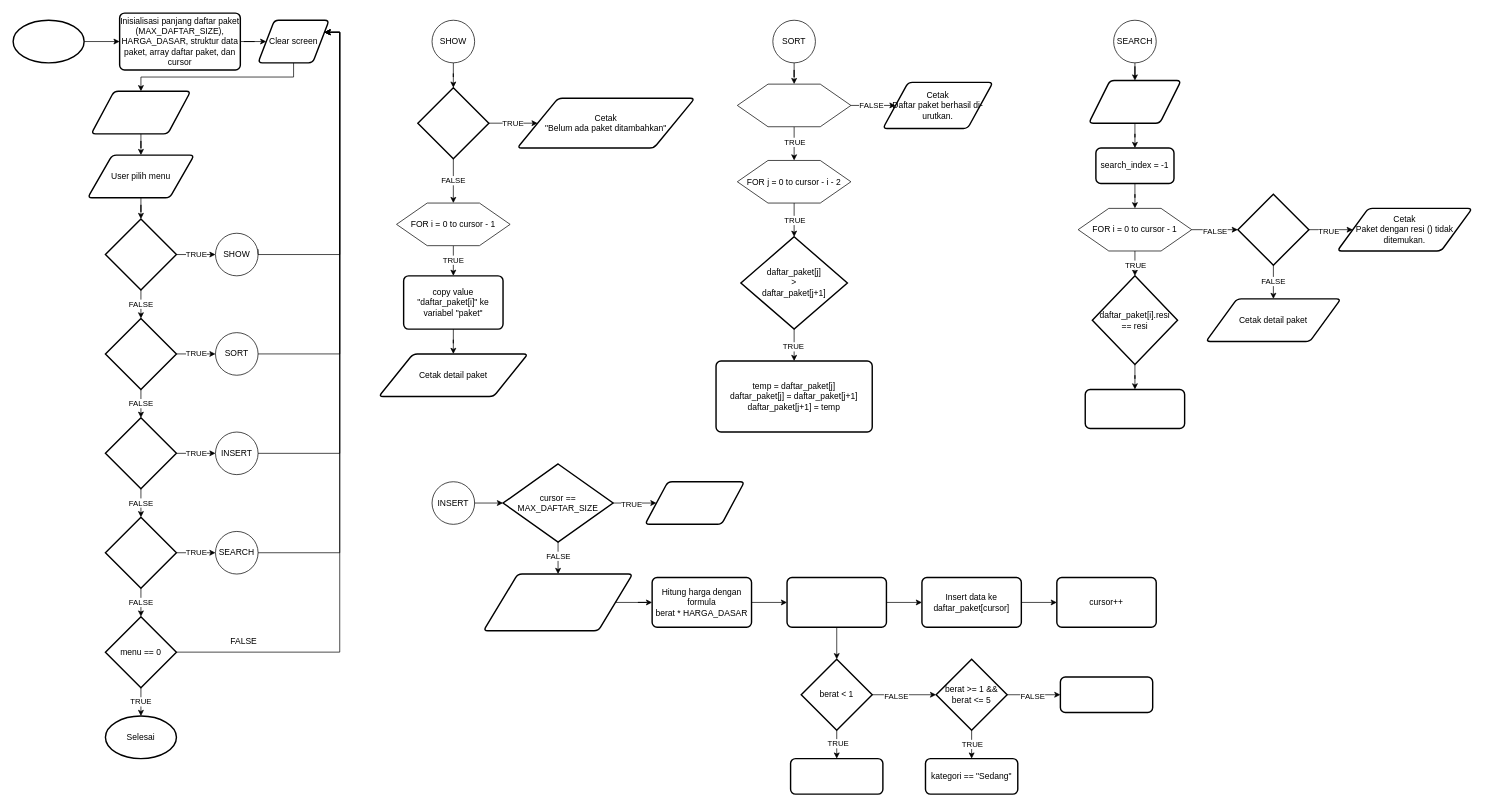
Some shapes in this 1485 by 807 pixel diagram are drawn without their labels. Here are the shapes that lost their labels. From the top down, the centre of each, then its label:
point (48, 41): Start
point (140, 112): Tampilkan menu
point (794, 105): FOR i = 0 to cursor - 2
point (1134, 102): User input resi
point (453, 123): cursor == 0
point (1273, 229): search_index == -1
point (140, 254): menu == 1
point (140, 353): menu == 2
point (1134, 408): search_index = i; break;
point (140, 453): menu == 3
point (694, 503): Cetak Daftar paket sudah penuh
point (140, 552): menu == 4
point (557, 602): User input resi, pengirim, tujuan, berat
point (836, 602): Evaluasi kategori
point (1106, 694): kategori == "Berat"
point (836, 776): kategori == "Ringan"
